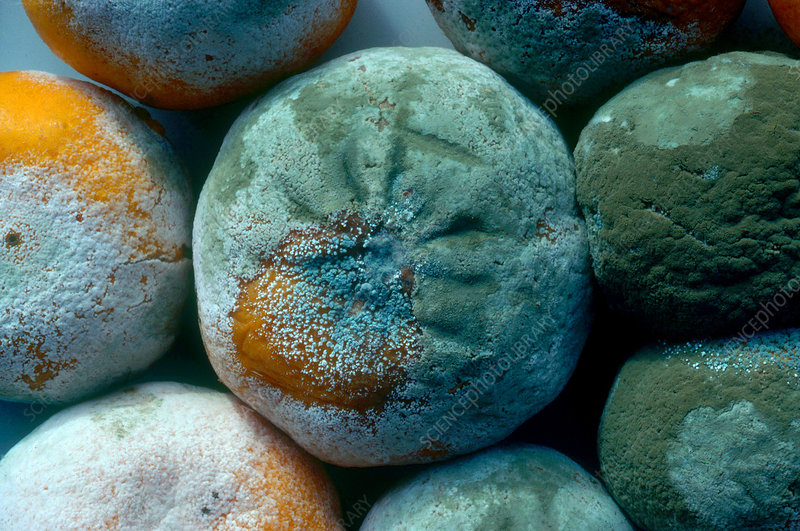Penicillium: (302, 98, 557, 247), (51, 386, 224, 528), (622, 364, 796, 504), (2, 209, 153, 358), (610, 120, 751, 270), (253, 263, 379, 380), (321, 236, 429, 364), (433, 476, 595, 531)
